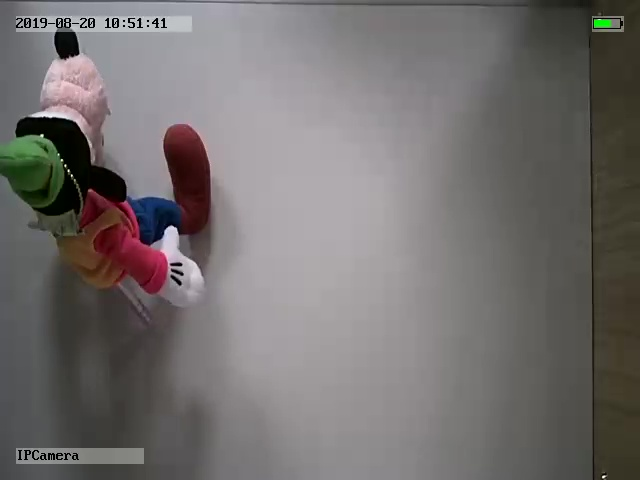goofy: (1, 31, 212, 308)
